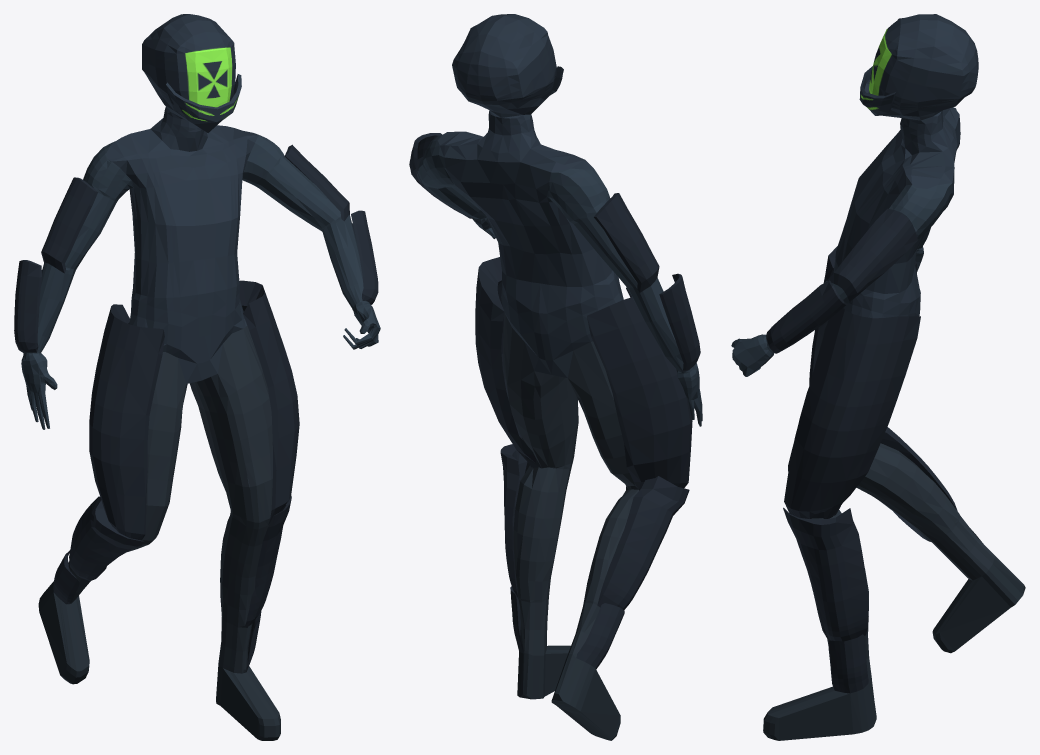
Rendered from Bastion_Hit_000008.obj.
3 views of the same model, side by side, from view 1: azimuth 30°, elevation 25°; view 2: azimuth 150°, elevation 25°; view 3: azimuth 270°, elevation 25° (orthographic). The views are drawn at different scales.
Parts seen in each view (by area): view 1: Cube.002; view 2: Cube.002; view 3: Cube.002.
Part boxes in pixels (<box>): Cube.002: <box>14,14,380,740</box>; Cube.002: <box>409,14,702,740</box>; Cube.002: <box>731,14,1025,740</box>.
Bounding box in the file's own units: 1.85 × 3.82 × 1.43.
